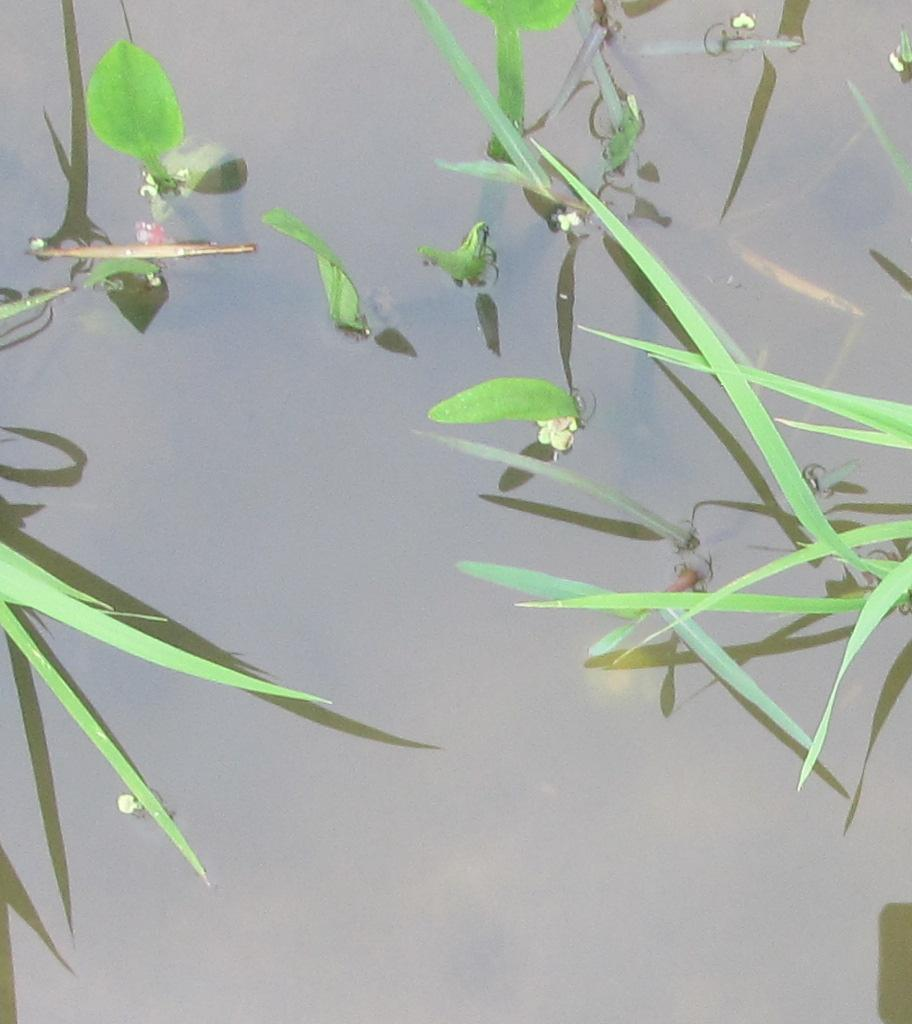Weed: (82, 35, 190, 164), (421, 371, 581, 438)
